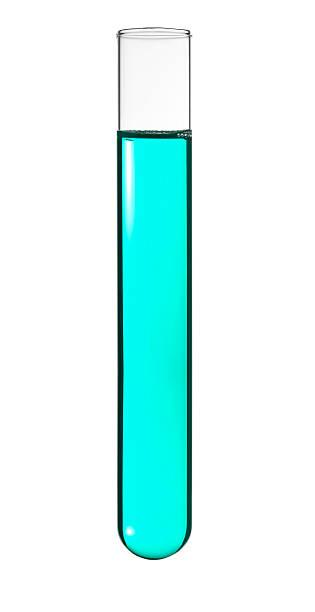Test tube: (107, 20, 206, 561)
